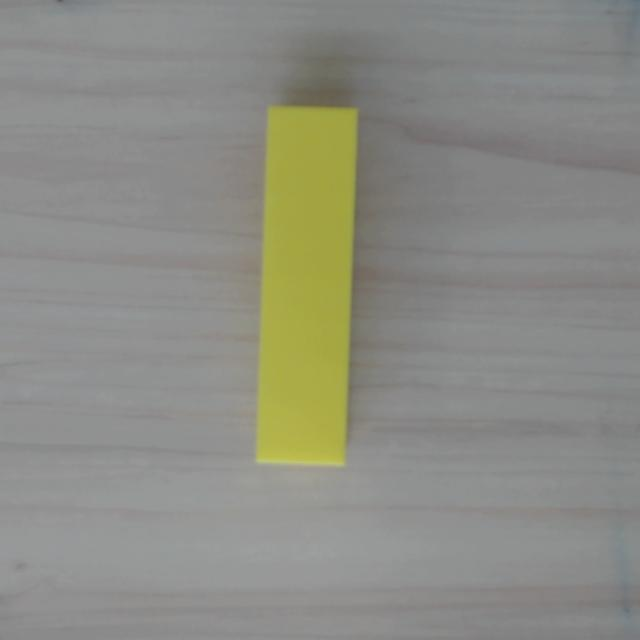Balok-Kuning-1002525: (255, 105, 358, 466)
